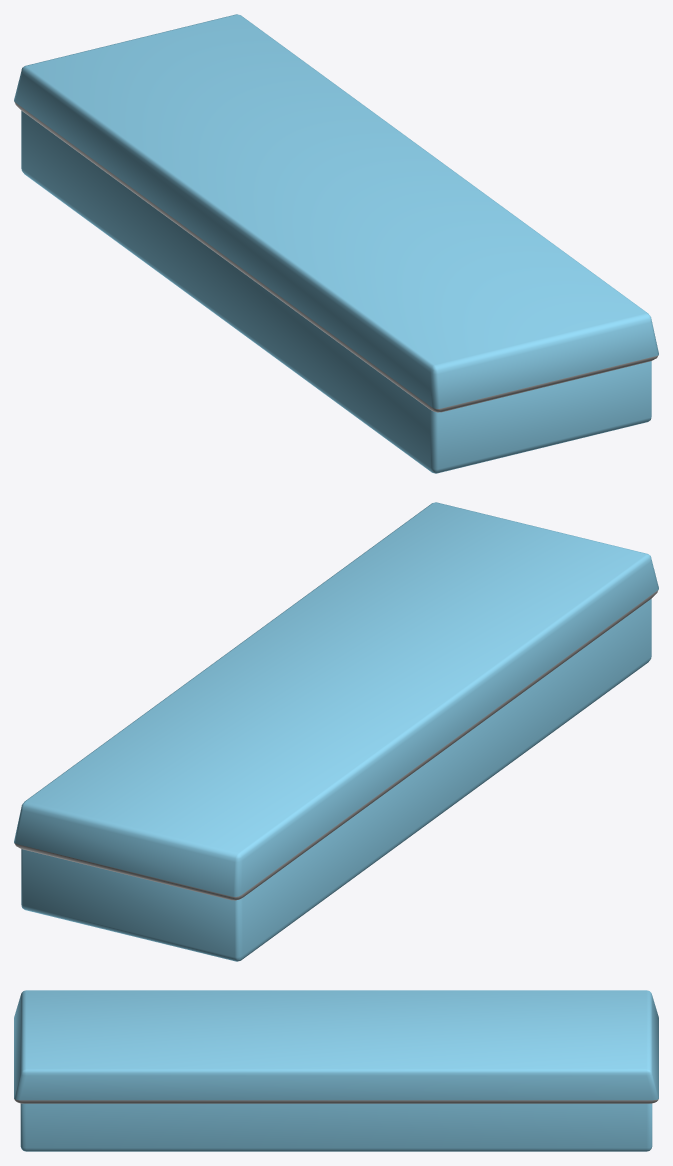
The model's file is pencil case close.fbx.
3 renders of one model, top to bottom at view 1: azimuth 30°, elevation 25°; view 2: azimuth 150°, elevation 25°; view 3: azimuth 270°, elevation 25°, orthographic. The views are drawn at different scales.
Parts seen in each view (by area): view 1: pencil case close; view 2: pencil case close; view 3: pencil case close.
Part boxes in pixels (<box>): pencil case close: <box>14,14,658,473</box>; pencil case close: <box>14,502,658,961</box>; pencil case close: <box>14,990,658,1151</box>.
Bounding box in the file's own units: 62.9 × 28.81 × 204.
